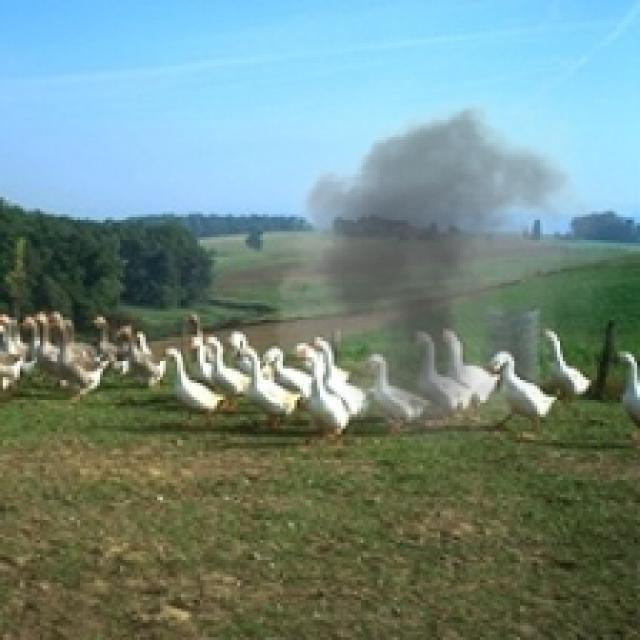Smoke: (257, 80, 637, 452)
